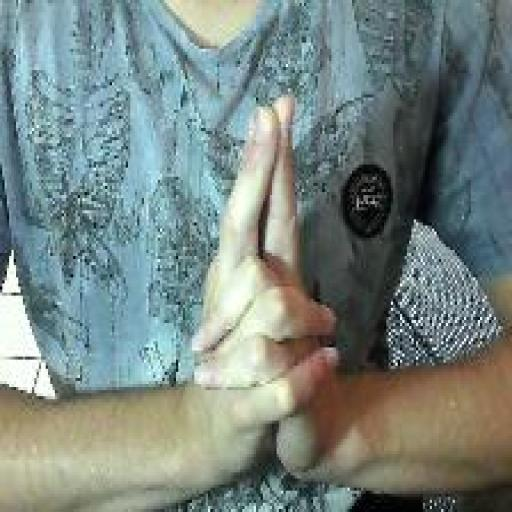Tora -tiger-: (186, 87, 342, 486)
